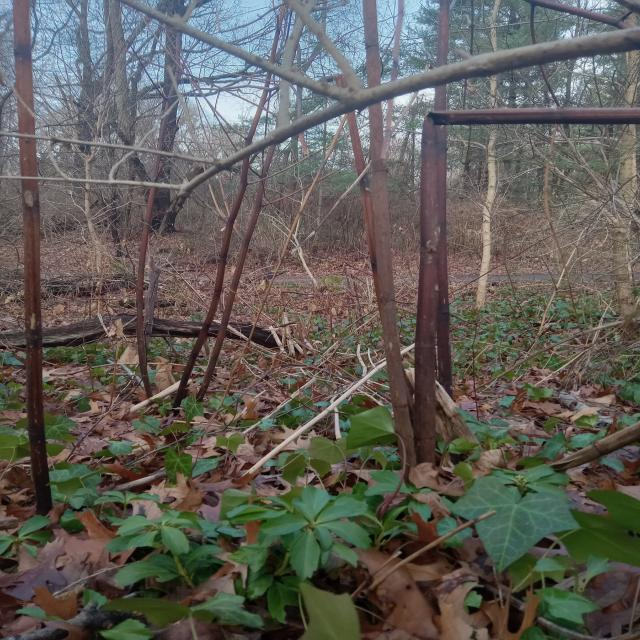knotweed-stems: (14, 24, 54, 516), (367, 134, 419, 478), (414, 142, 448, 478)
